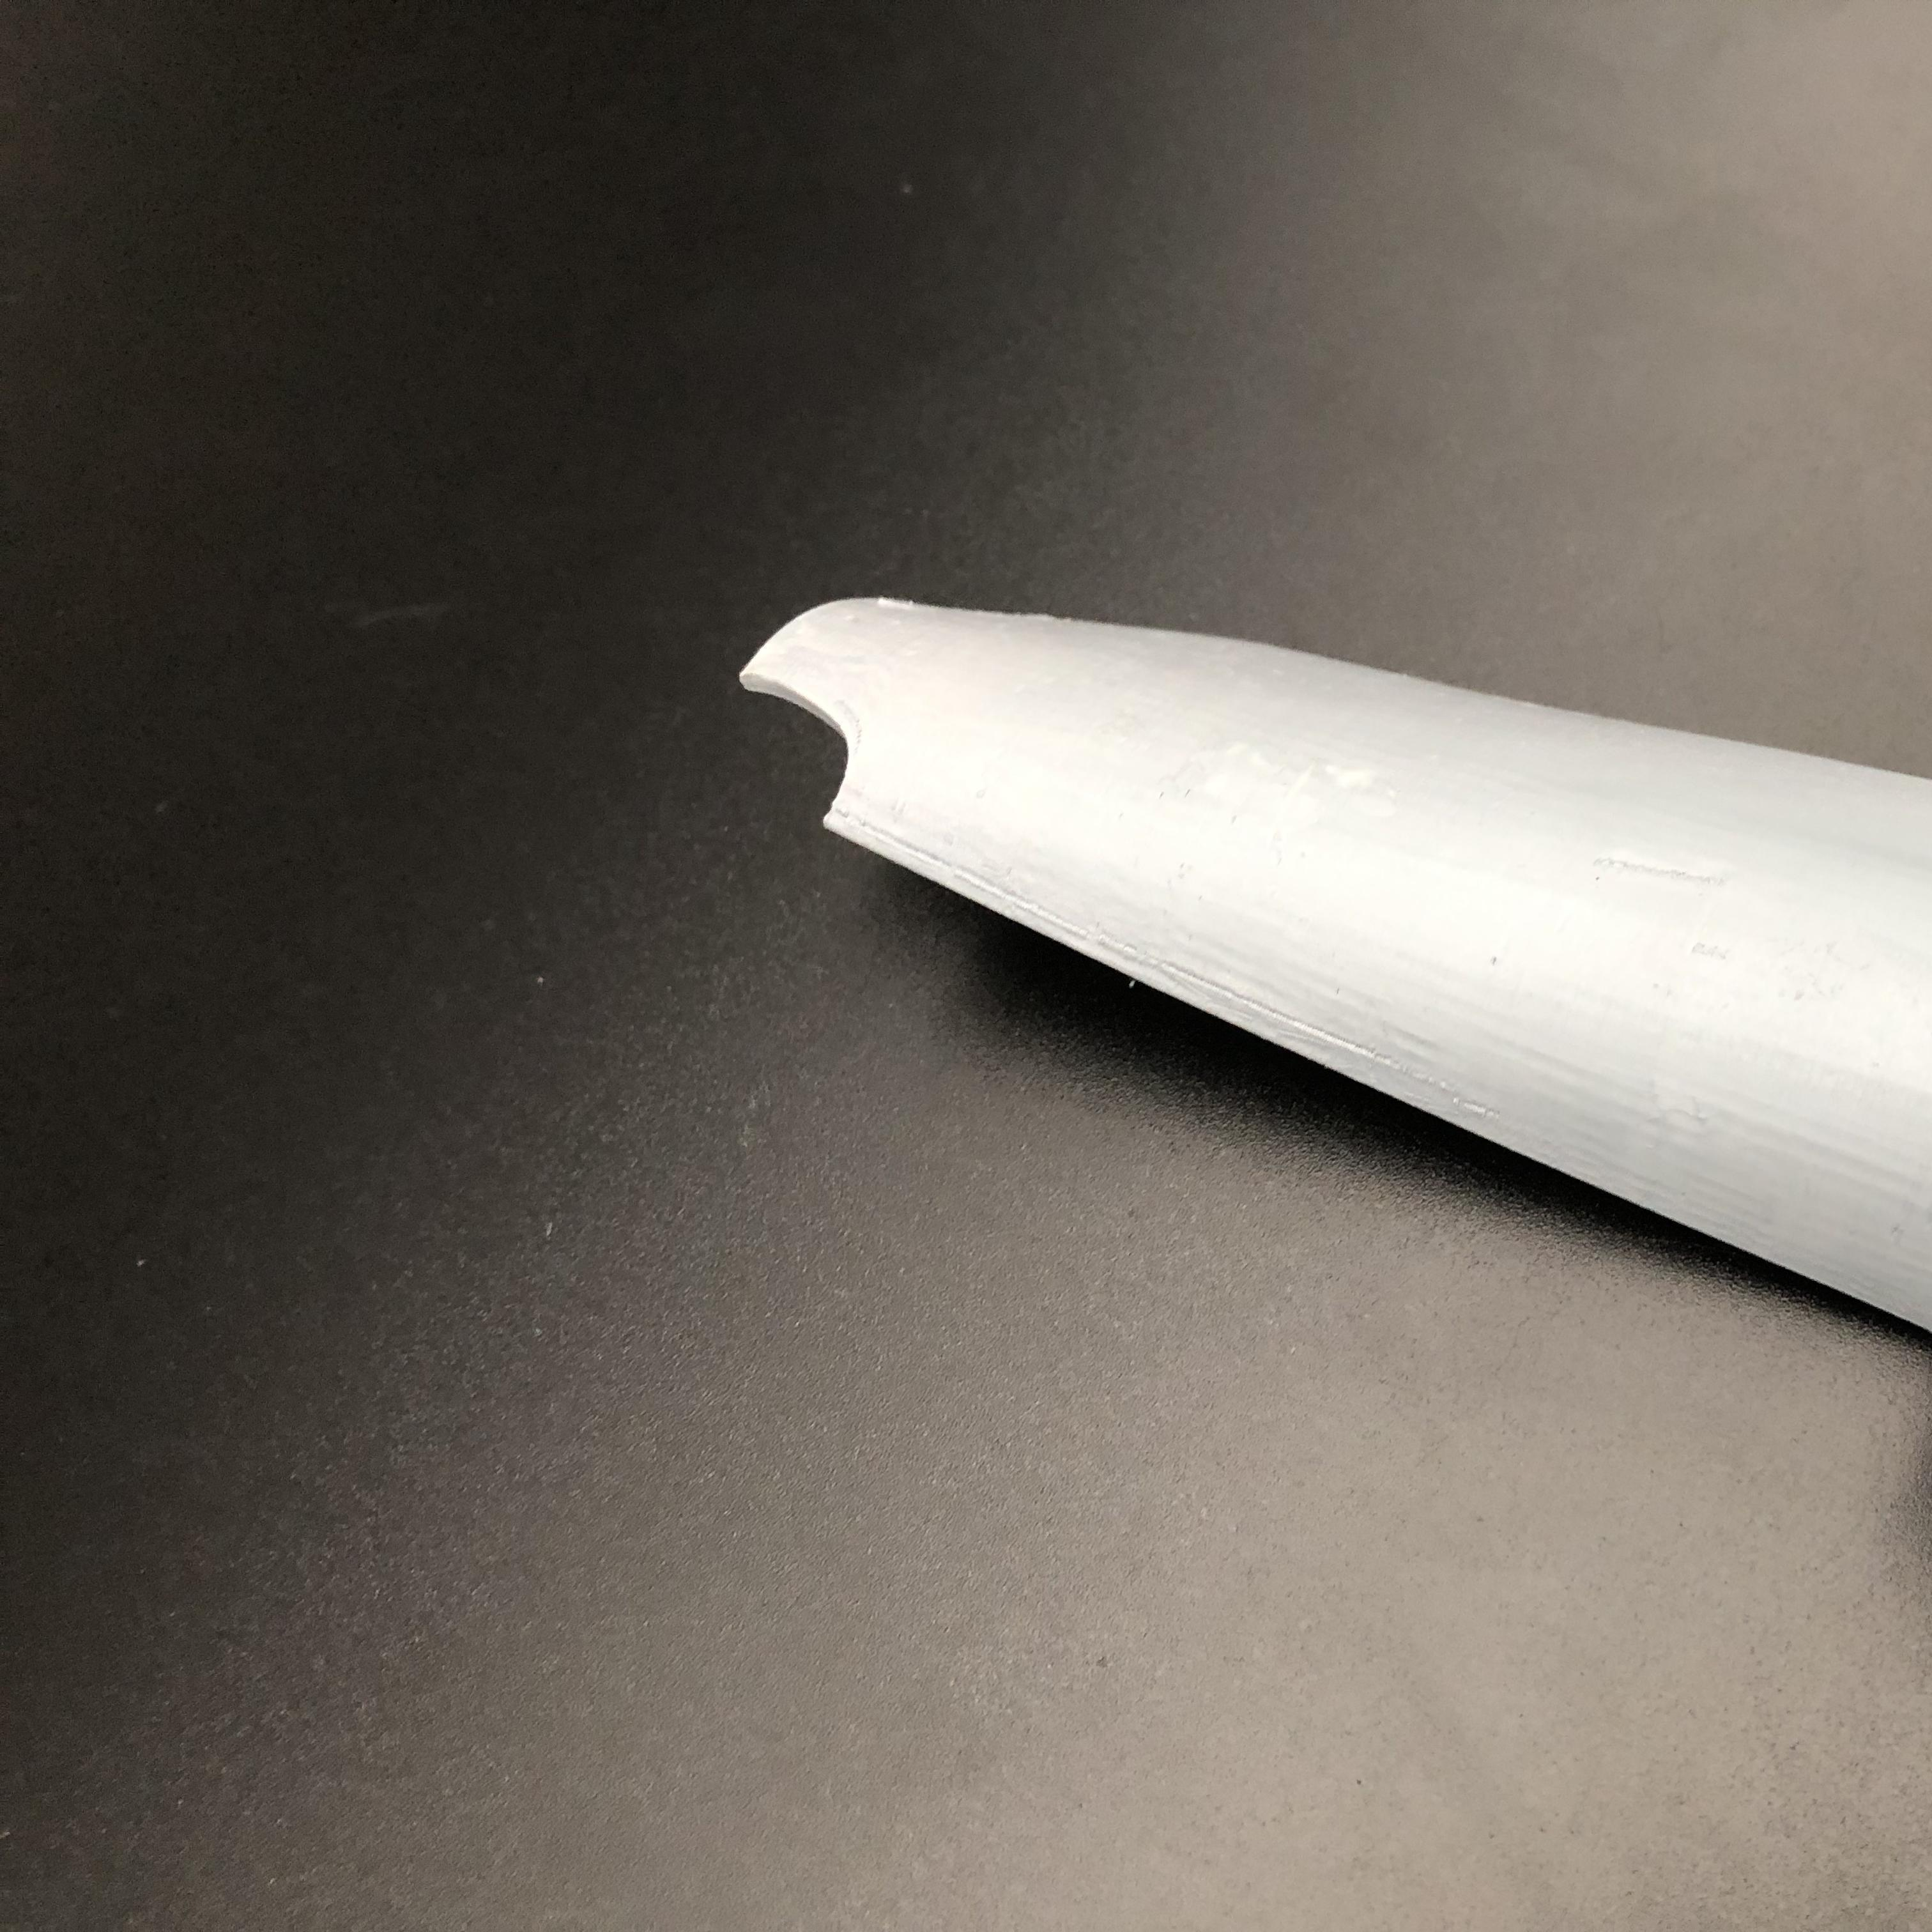fracture: (736, 671, 893, 847)
